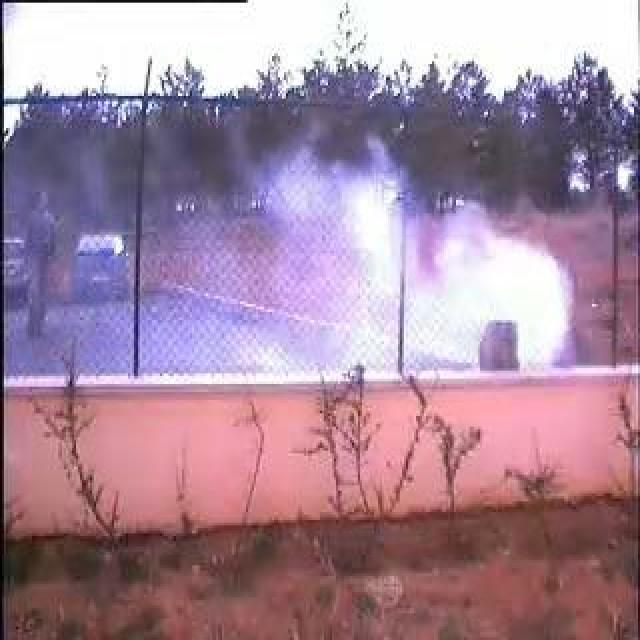Smoke: (264, 155, 574, 376)
